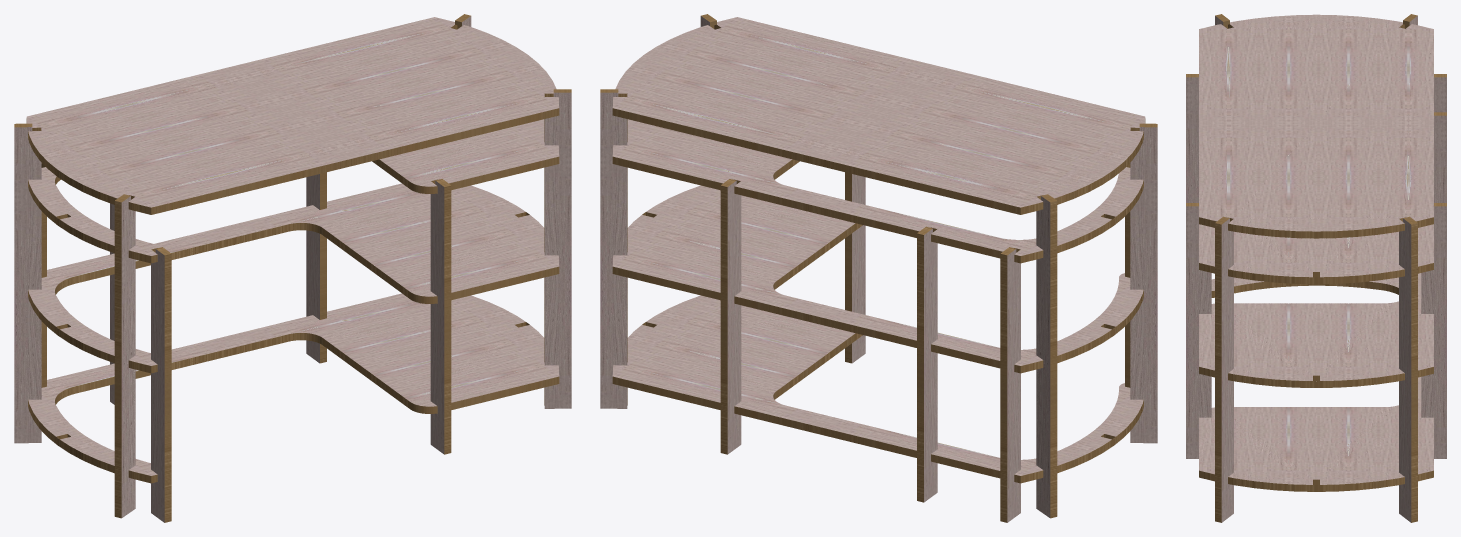
The model's file is NODO_ESCRITORIO_PARAISO_V1.glb.
3 renders of one model, left to right at view 1: azimuth 30°, elevation 25°; view 2: azimuth 150°, elevation 25°; view 3: azimuth 270°, elevation 25°, orthographic. The views are drawn at different scales.
Parts seen in each view (by area): view 1: Tapa, Estante_inferior_2, Estante_inferior_1, Estante_inferior_3, Lateral_izquierdo_atras, Lateral_derecho_frente, Lateral_izquierdo_frente, Montante_bajo_2, Montante_bajo_1, Montante_bajo_5, Montante_bajo_3; view 2: Tapa, Estante_inferior_1, Estante_inferior_2, Estante_inferior_3, Lateral_izquierdo_frente, Lateral_derecho_atras, Lateral_izquierdo_atras, Montante_bajo_5, Montante_bajo_3, Montante_bajo_4, Montante_bajo_2, Montante_bajo_1; view 3: Tapa, Estante_inferior_1, Estante_inferior_2, Estante_inferior_3, Lateral_derecho_frente, Lateral_derecho_atras, Montante_bajo_2, Montante_bajo_5, Montante_bajo_1, Montante_bajo_4, Montante_bajo_3.
Boxes of the visible parts, bbox=[...] form: Tapa: bbox=[26, 17, 559, 214]; Estante_inferior_2: bbox=[28, 183, 559, 373]; Estante_inferior_1: bbox=[28, 293, 559, 483]; Estante_inferior_3: bbox=[28, 119, 559, 263]; Lateral_izquierdo_atras: bbox=[14, 123, 41, 443]; Lateral_derecho_frente: bbox=[544, 89, 571, 408]; Lateral_izquierdo_frente: bbox=[114, 194, 135, 518]; Montante_bajo_2: bbox=[430, 179, 451, 454]; Montante_bajo_1: bbox=[151, 247, 171, 522]; Montante_bajo_5: bbox=[306, 172, 326, 363]; Montante_bajo_3: bbox=[41, 163, 46, 387]; Tapa: bbox=[612, 17, 1145, 214]; Estante_inferior_1: bbox=[612, 295, 1143, 483]; Estante_inferior_2: bbox=[612, 185, 1143, 373]; Estante_inferior_3: bbox=[612, 119, 1143, 263]; Lateral_izquierdo_frente: bbox=[1130, 123, 1157, 443]; Lateral_derecho_atras: bbox=[600, 89, 627, 408]; Lateral_izquierdo_atras: bbox=[1036, 194, 1057, 518]; Montante_bajo_5: bbox=[720, 179, 741, 454]; Montante_bajo_3: bbox=[1000, 247, 1020, 522]; Montante_bajo_4: bbox=[917, 226, 937, 502]; Montante_bajo_2: bbox=[845, 172, 865, 363]; Montante_bajo_1: bbox=[1125, 163, 1130, 387]; Tapa: bbox=[1199, 14, 1433, 238]; Estante_inferior_1: bbox=[1199, 277, 1433, 491]; Estante_inferior_2: bbox=[1199, 273, 1433, 387]; Estante_inferior_3: bbox=[1199, 224, 1433, 284]; Lateral_derecho_frente: bbox=[1215, 216, 1233, 522]; Lateral_derecho_atras: bbox=[1399, 216, 1417, 522]; Montante_bajo_2: bbox=[1186, 203, 1211, 458]; Montante_bajo_5: bbox=[1421, 203, 1446, 458]; Montante_bajo_1: bbox=[1186, 74, 1198, 202]; Montante_bajo_4: bbox=[1434, 112, 1446, 202]; Montante_bajo_3: bbox=[1434, 74, 1446, 112].
Bounding box in the file's own units: 1.2 × 0.77 × 0.61.
Materials: 2 (2 with a texture image).
